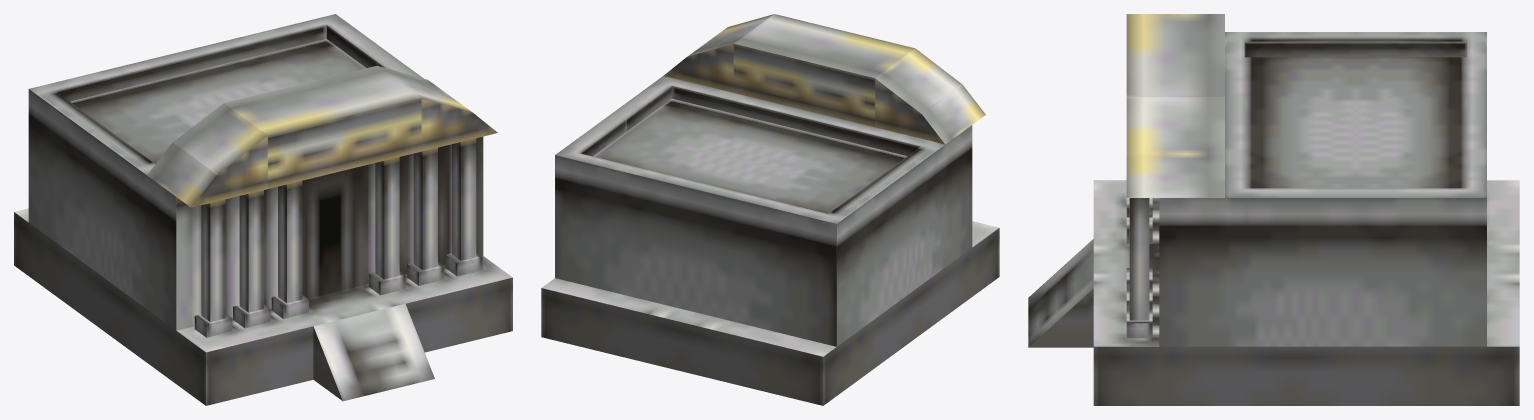
File: Poly_World_Map_Ancient_Building_02_B.obj
The picture shows the model from 3 angles, left to right: view 1: azimuth 30°, elevation 25°; view 2: azimuth 150°, elevation 25°; view 3: azimuth 270°, elevation 25°; orthographic projection. The views are drawn at different scales.
Visible parts, largest first — view 1: Cube, Cube.001, Cube.004, Cube.002, Cube.003; view 2: Cube, Cube.004, Cube.001; view 3: Cube, Cube.004, Cube.001, Cube.003, Cube.002.
Boxes of the visible parts, x1=… form: Cube: x1=14, y1=65, x2=497, y2=330; Cube.001: x1=14, y1=212, x2=512, y2=405; Cube.004: x1=29, y1=14, x2=423, y2=174; Cube.002: x1=194, y1=138, x2=482, y2=337; Cube.003: x1=177, y1=256, x2=512, y2=352; Cube: x1=542, y1=14, x2=985, y2=356; Cube.004: x1=555, y1=76, x2=944, y2=223; Cube.001: x1=541, y1=228, x2=999, y2=405; Cube: x1=1126, y1=14, x2=1519, y2=346; Cube.004: x1=1225, y1=32, x2=1486, y2=197; Cube.001: x1=1028, y1=239, x2=1519, y2=405; Cube.003: x1=1093, y1=180, x2=1159, y2=346; Cube.002: x1=1126, y1=198, x2=1152, y2=338.
Size of the model in its own units: 1.2 by 0.9 by 1.5.
Materials: 1 (1 with a texture image).
